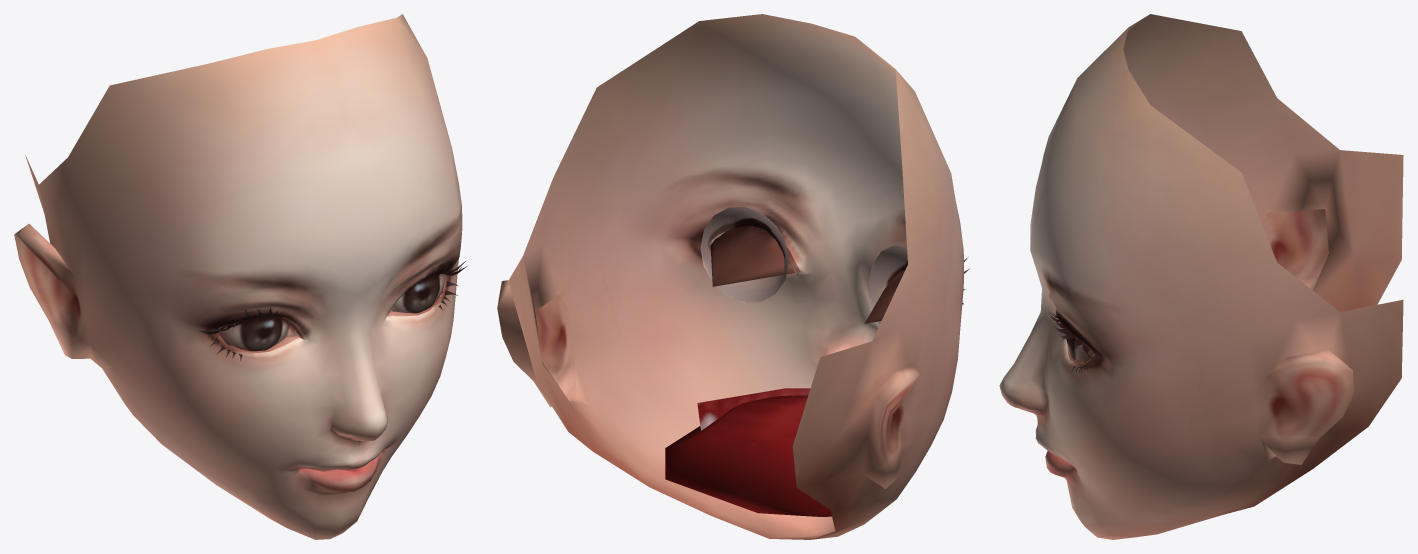
3 renders of one model, left to right at view 1: azimuth 30°, elevation 25°; view 2: azimuth 150°, elevation 25°; view 3: azimuth 270°, elevation 25°, orthographic. The views are drawn at different scales.
Visible parts, largest first — view 1: ts_nchr001_face; view 2: ts_nchr001_face; view 3: ts_nchr001_face.
Part boxes in pixels (box(x1,y1,x2,y2)): ts_nchr001_face: box(14, 14, 466, 539); ts_nchr001_face: box(497, 14, 969, 539); ts_nchr001_face: box(999, 14, 1403, 539).
Size of the model in its own units: 0.1796 by 0.2157 by 0.1619.
